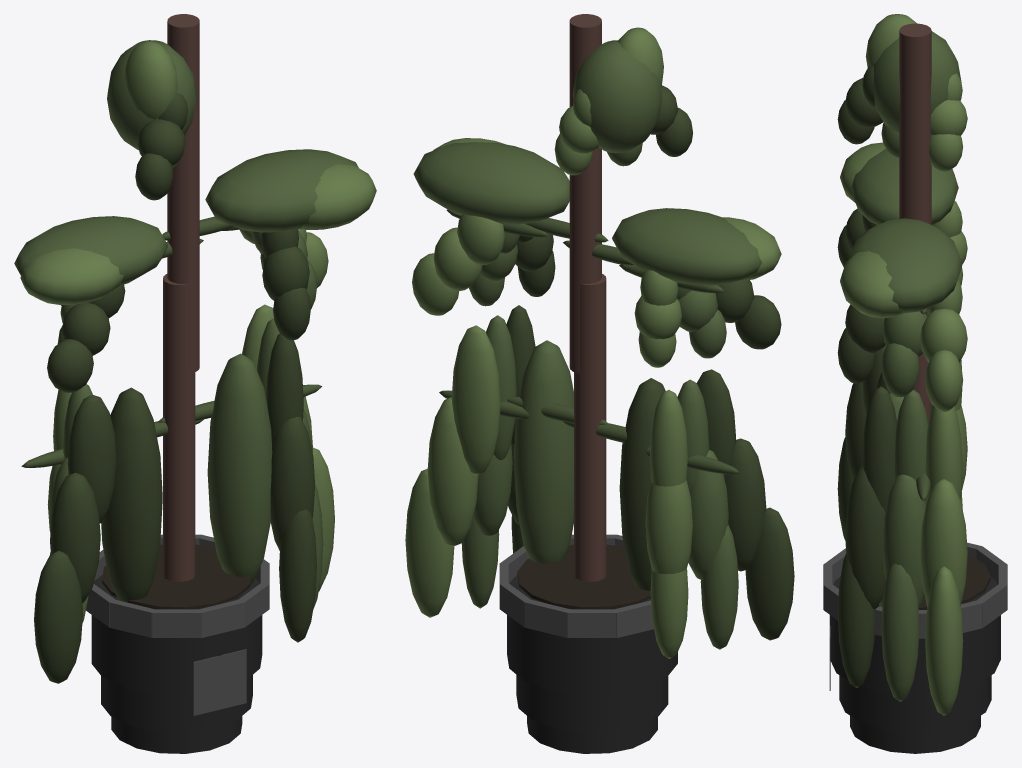
Rendered from CMU3DPottedPlant24.glb.
The picture shows the model from 3 angles, left to right: view 1: azimuth 30°, elevation 25°; view 2: azimuth 150°, elevation 25°; view 3: azimuth 270°, elevation 25°; orthographic projection.
Visible parts, largest first — view 1: overlapping broadleaf tier (×8), continuous tapered leaf blade (×21), branch (×2), upper pot wall, lower tapered pot wall, recessed soil, pot front highlight, narrow pot foot, hollow curved planter rim 09, hollow curved planter rim 08, hollow curved planter rim 10, hollow curved planter rim 11 (+1 smaller); view 2: continuous tapered leaf blade (×34), overlapping broadleaf tier (×7), branch (×5), upper pot wall, lower tapered pot wall, recessed soil, narrow pot foot, hollow curved planter rim 05, hollow curved planter rim 04, hollow curved planter rim 06, hollow curved planter rim 03; view 3: continuous tapered leaf blade (×30), overlapping broadleaf tier (×6), branch (×2), lower tapered pot wall, upper pot wall, narrow pot foot, recessed soil, hollow curved planter rim 03, hollow curved planter rim 02, hollow curved planter rim 05, hollow curved planter rim 11, hollow curved planter rim 09.
Part boxes in pixels (box(x1,y1,x2,y2)): overlapping broadleaf tier (×8): box(14, 40, 376, 602); continuous tapered leaf blade (×21): box(34, 93, 334, 683); branch (×2): box(163, 14, 199, 581); upper pot wall: box(91, 575, 262, 694); lower tapered pot wall: box(101, 675, 252, 731); recessed soil: box(102, 544, 251, 609); pot front highlight: box(193, 649, 246, 715); narrow pot foot: box(111, 716, 242, 753); hollow curved planter rim 09: box(151, 609, 201, 637); hollow curved planter rim 08: box(109, 600, 153, 637); hollow curved planter rim 10: box(200, 600, 244, 637); hollow curved planter rim 11: box(237, 582, 269, 627); continuous tapered leaf blade (×34): box(405, 85, 794, 658); overlapping broadleaf tier (×7): box(413, 27, 781, 600); branch (×5): box(507, 14, 739, 581); upper pot wall: box(507, 575, 677, 694); lower tapered pot wall: box(516, 675, 668, 731); recessed soil: box(517, 544, 650, 609); narrow pot foot: box(527, 716, 657, 753); hollow curved planter rim 05: box(567, 609, 617, 637); hollow curved planter rim 04: box(524, 600, 569, 637); hollow curved planter rim 06: box(615, 600, 653, 637); hollow curved planter rim 03: box(499, 582, 531, 627); continuous tapered leaf blade (×30): box(837, 66, 967, 715); overlapping broadleaf tier (×6): box(840, 14, 962, 318); branch (×2): box(899, 23, 931, 423); lower tapered pot wall: box(839, 675, 991, 732); upper pot wall: box(830, 577, 1000, 695); narrow pot foot: box(850, 715, 980, 753); recessed soil: box(840, 554, 990, 609); hollow curved planter rim 03: box(975, 584, 1007, 627); hollow curved planter rim 02: box(960, 600, 982, 632); hollow curved planter rim 05: box(976, 546, 1007, 584); hollow curved planter rim 11: box(823, 584, 838, 620); hollow curved planter rim 09: box(823, 548, 846, 584).
Size of the model in its own units: 0.5566 by 1.07 by 0.2555.
